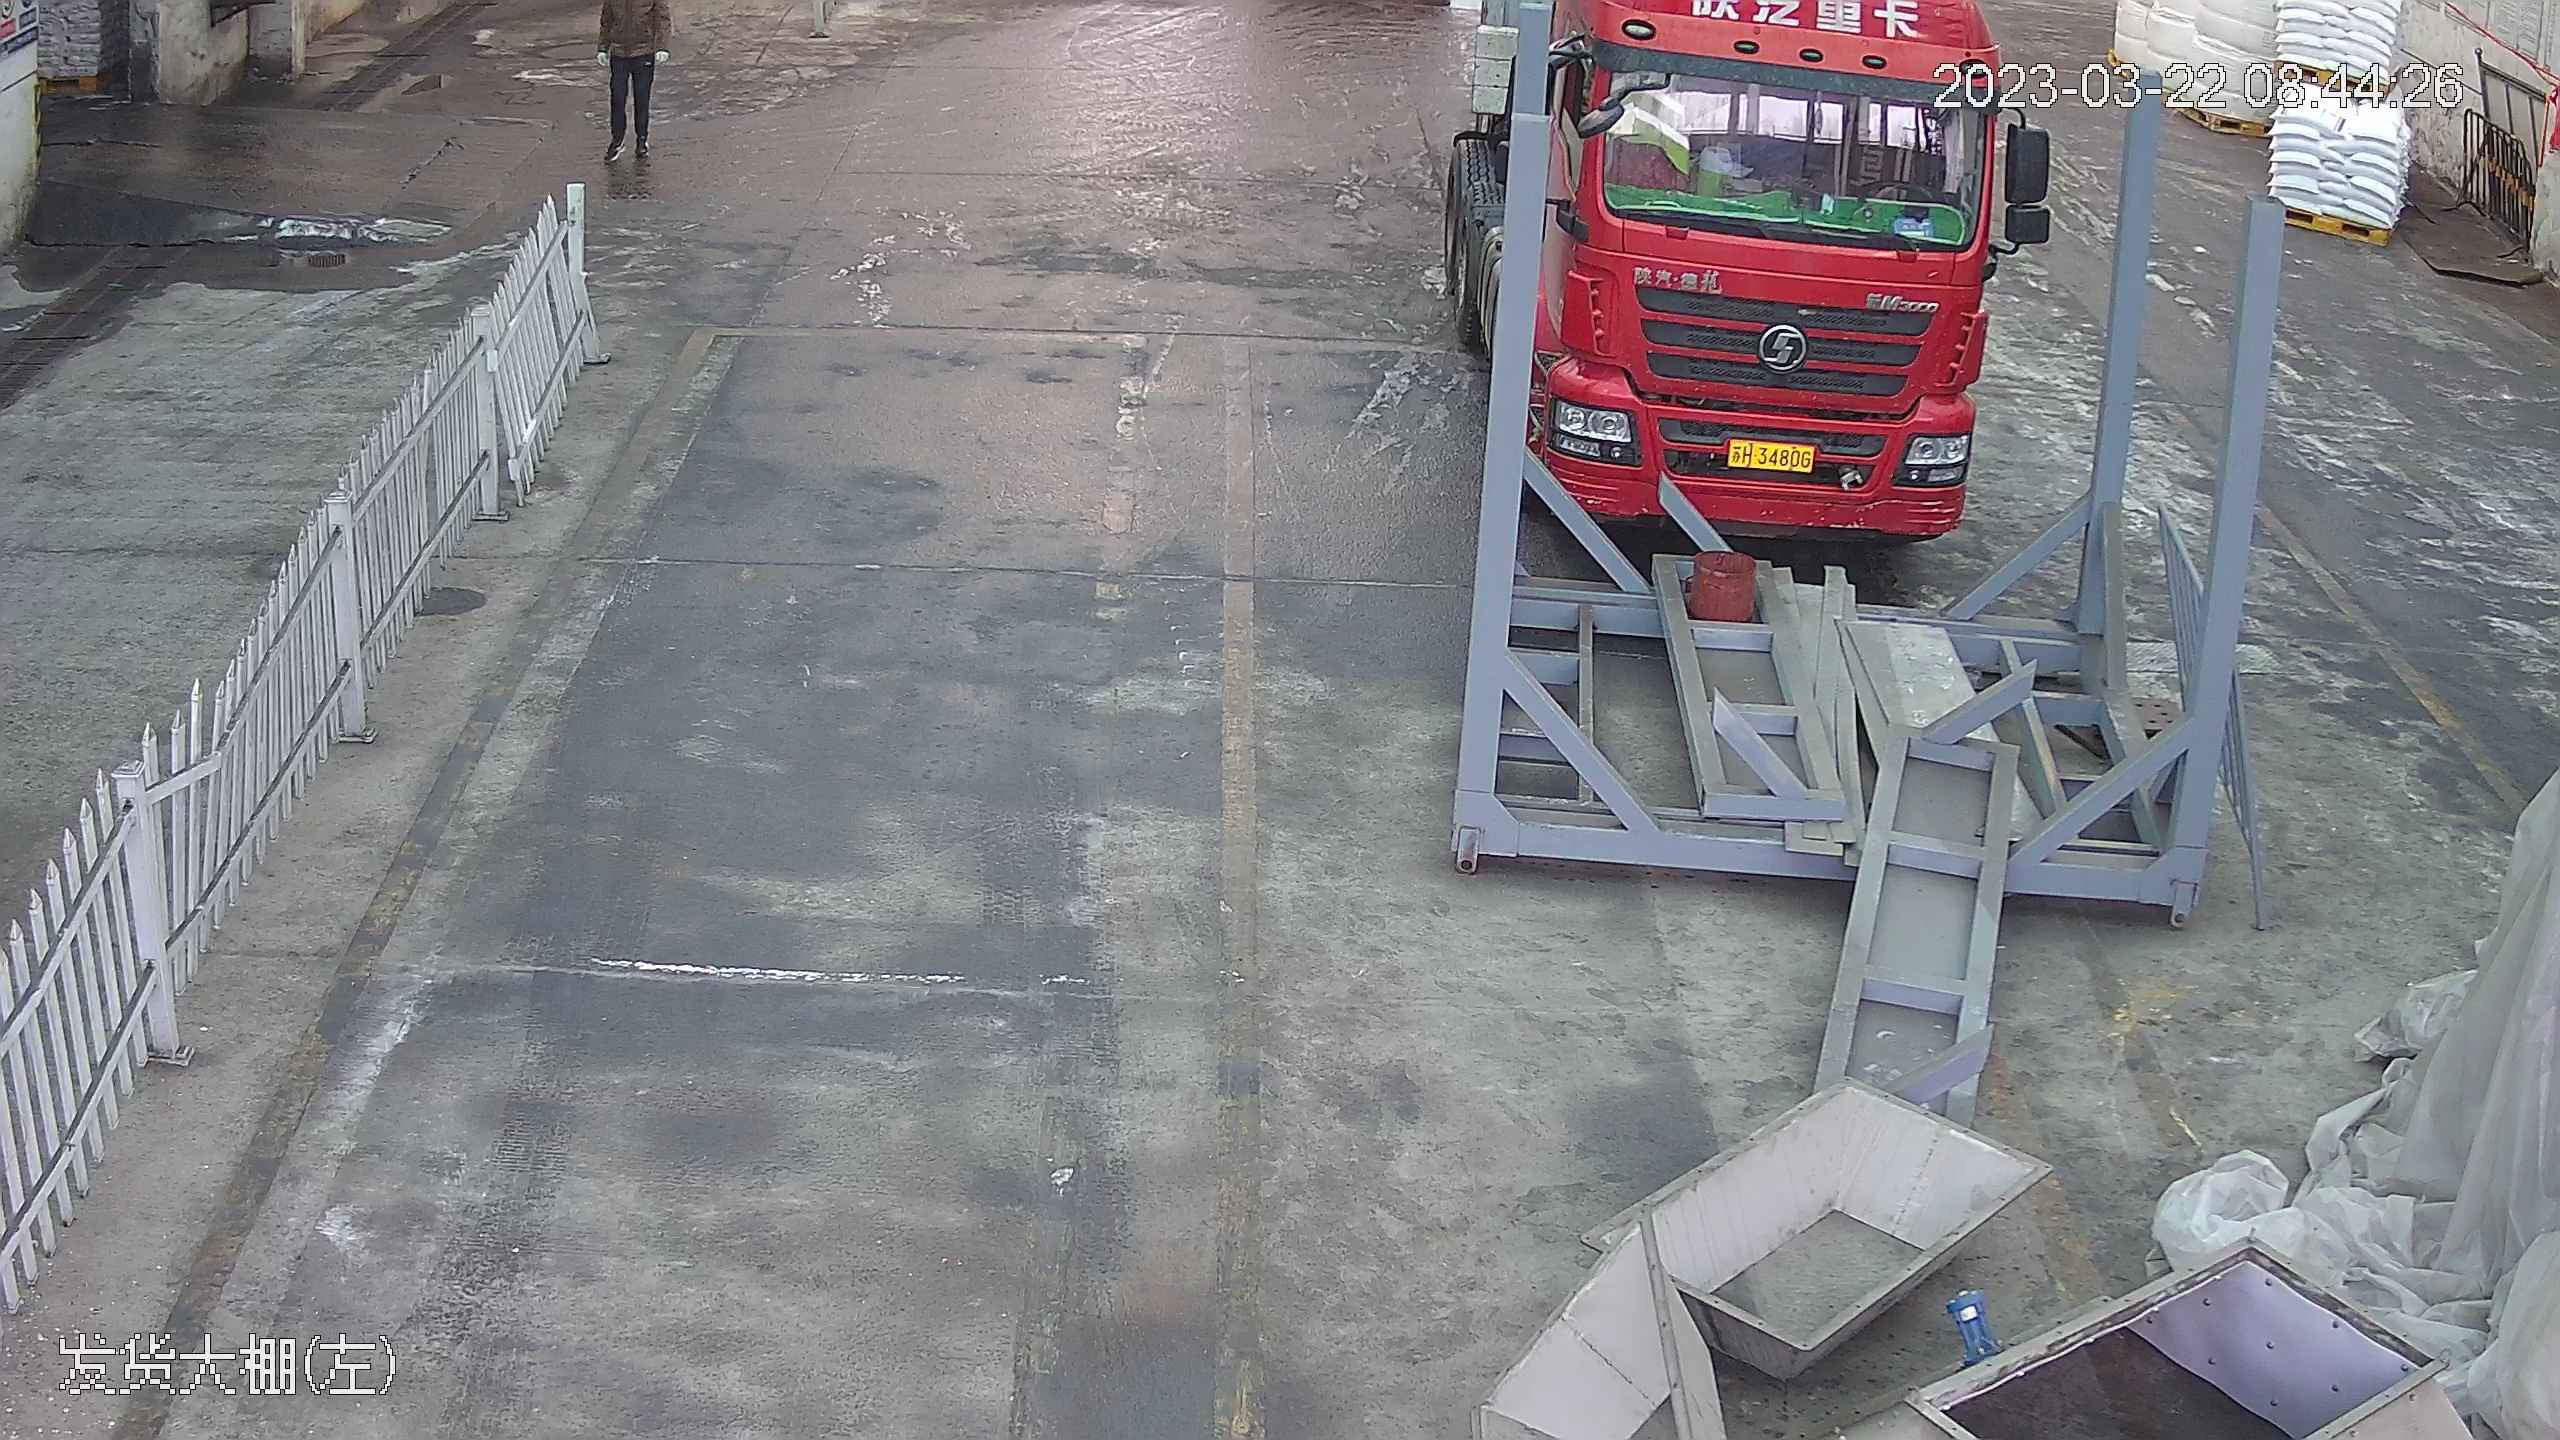people: (591, 0, 672, 172)
truck: (1501, 0, 2012, 540)
